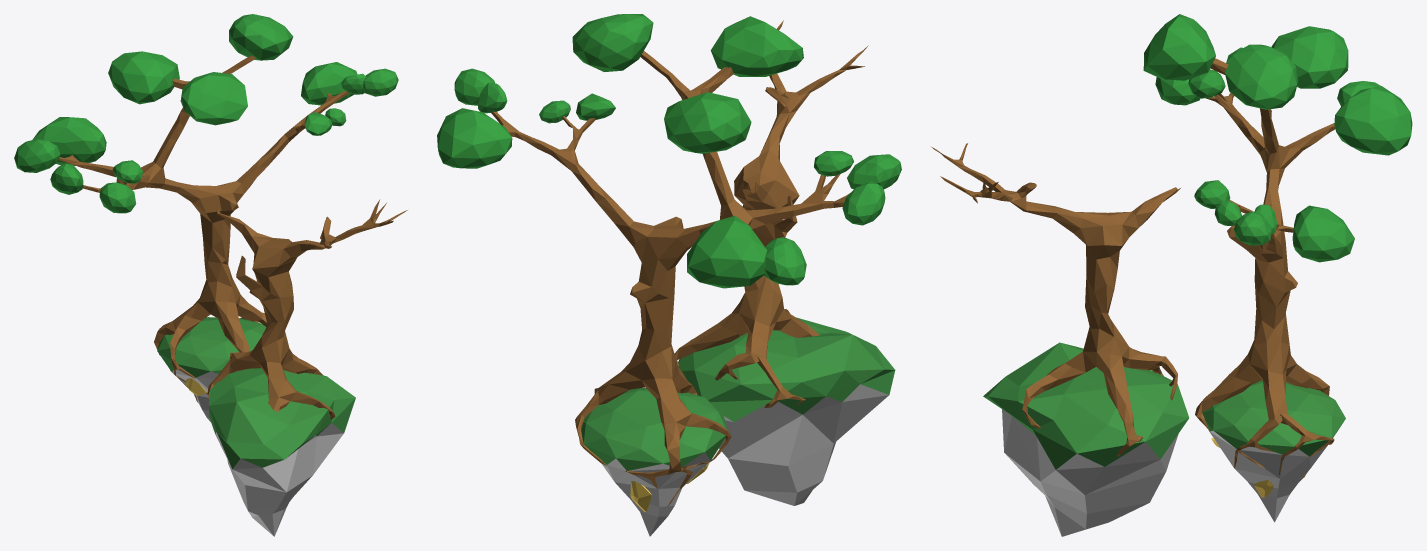
Rendered from tree.fbx.
3 views of the same model, side by side, from view 1: azimuth 30°, elevation 25°; view 2: azimuth 150°, elevation 25°; view 3: azimuth 270°, elevation 25° (orthographic). The views are drawn at different scales.
Visible parts, largest first — view 1: Leaves, Tree, Island_1, Tree_1, Stones_1, Island, Stones; view 2: Leaves, Tree, Island_1, Tree_1, Stones_1, Island, Stones; view 3: Leaves, Island_1, Tree, Tree_1, Stones_1, Island, Stones.
Boxes of the visible parts, bbox=[...] form: Leaves: bbox=[14, 14, 398, 213]; Tree: bbox=[58, 55, 349, 402]; Island_1: bbox=[209, 368, 355, 468]; Tree_1: bbox=[207, 199, 407, 419]; Stones_1: bbox=[215, 423, 343, 536]; Island: bbox=[157, 317, 266, 377]; Stones: bbox=[172, 367, 218, 421]; Leaves: bbox=[437, 14, 901, 288]; Tree: bbox=[491, 51, 849, 506]; Island_1: bbox=[678, 317, 895, 421]; Tree_1: bbox=[674, 20, 868, 407]; Stones_1: bbox=[719, 384, 888, 505]; Island: bbox=[581, 388, 726, 470]; Stones: bbox=[601, 452, 710, 536]; Leaves: bbox=[1143, 14, 1412, 262]; Island_1: bbox=[983, 342, 1189, 469]; Tree: bbox=[1195, 58, 1335, 474]; Tree_1: bbox=[931, 143, 1180, 456]; Stones_1: bbox=[1002, 409, 1178, 536]; Island: bbox=[1202, 380, 1345, 456]; Stones: bbox=[1209, 430, 1327, 522].
Size of the model in its own units: 149 by 182 by 152.
